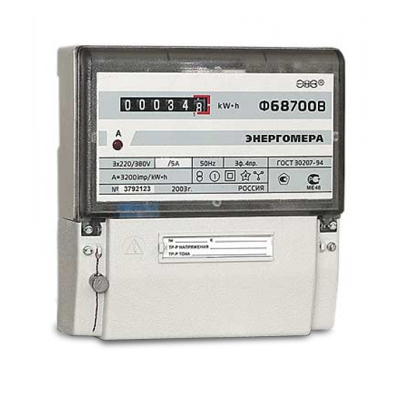counter: (72, 40, 348, 344)
counter_screen: (118, 94, 211, 114)
